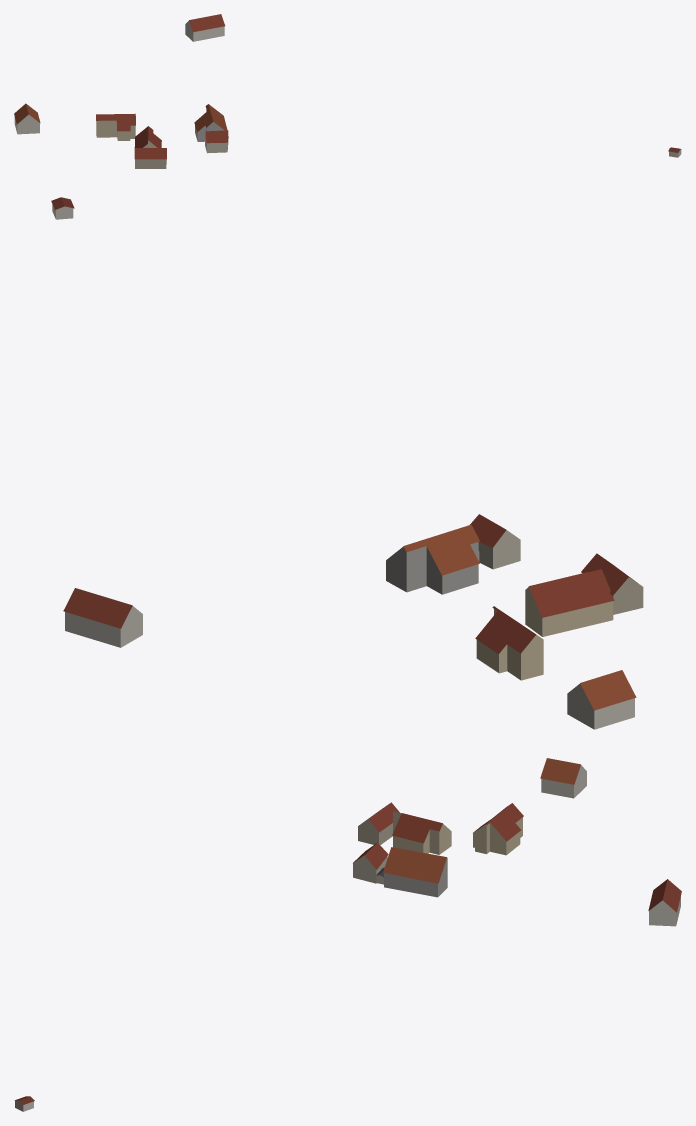
3 renders of one model, top to bottom at view 1: azimuth 30°, elevation 25°; view 2: azimuth 150°, elevation 25°; view 3: azimuth 270°, elevation 25°, orthographic. The views are drawn at different scales.
Parts seen in each view (by area): view 1: buildings; view 2: buildings; view 3: buildings.
Part boxes in pixels (x1,y1,x2,y2): buildings: (14,14,681,168); buildings: (51,197,643,729); buildings: (14,758,681,1111).
Bounding box in the file's own units: 296 × 23.54 × 251.
